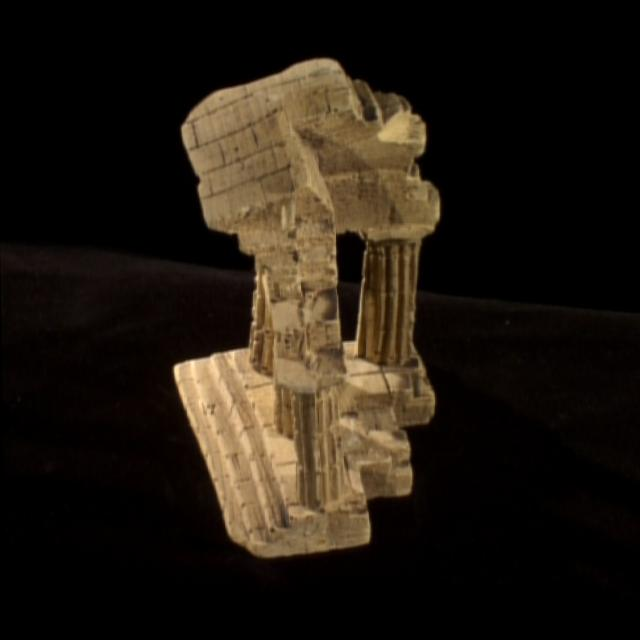Instance-Segmentation: (176, 59, 438, 557)
